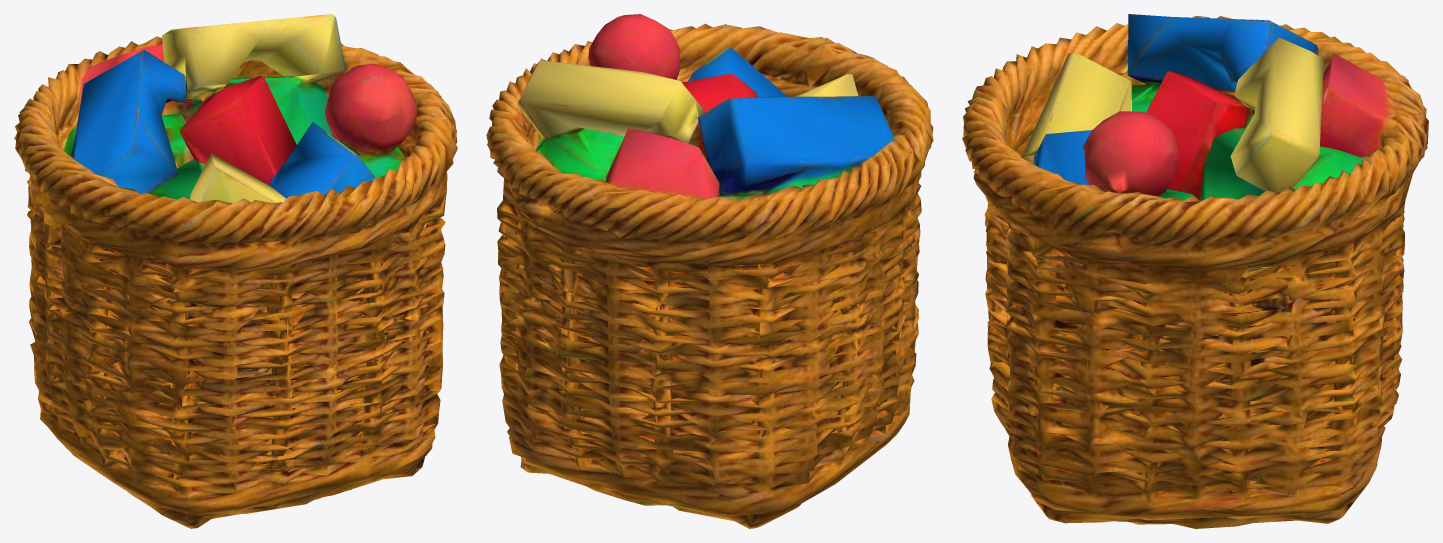
Rendered from basket.glb.
3 renders of one model, left to right at view 1: azimuth 30°, elevation 25°; view 2: azimuth 150°, elevation 25°; view 3: azimuth 270°, elevation 25°, orthographic. The views are drawn at different scales.
Parts seen in each view (by area): view 1: Mesh_0; view 2: Mesh_0; view 3: Mesh_0.
Boxes of the visible parts, left/top/right/bottom form: Mesh_0: left=14, top=14, right=457, bottom=528; Mesh_0: left=486, top=14, right=933, bottom=528; Mesh_0: left=962, top=14, right=1428, bottom=528.
Size of the model in its own units: 1.9 by 1.9 by 1.89.
1 material, 1 textured.
